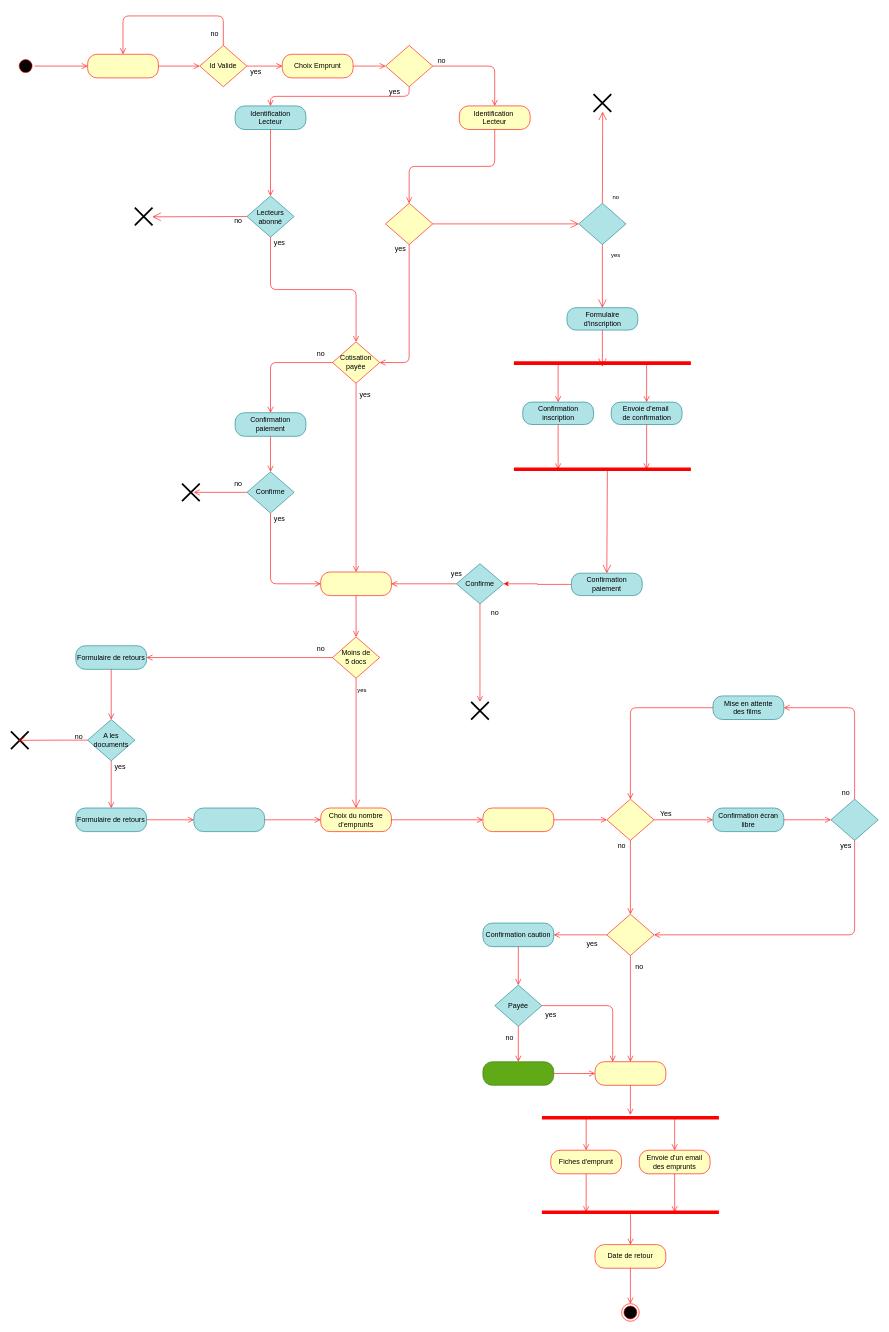
The diagram is 889 pixels wide and 1332 high, and some of its shapes have lost their labels. The box of each missing label's shape, as (x1, y1, x2, y2) in pixels:
Benevole: (385, 45, 433, 87)
CD-ROM: (606, 914, 654, 956)
Codes des Documents: (482, 807, 554, 832)
Confirmation de retour: (193, 807, 265, 832)
Ecran libre: (830, 799, 878, 840)
Film: (606, 799, 654, 840)
Identification Employé: (87, 54, 158, 78)
Lecteur abonné: (385, 203, 433, 245)
Nombre d'emprunts possibes: (320, 571, 391, 596)
Recupitulatif Commande: (594, 1061, 666, 1085)
Recupération des CD-ROM: (482, 1061, 554, 1085)
Veut s'abonner: (578, 203, 626, 245)
